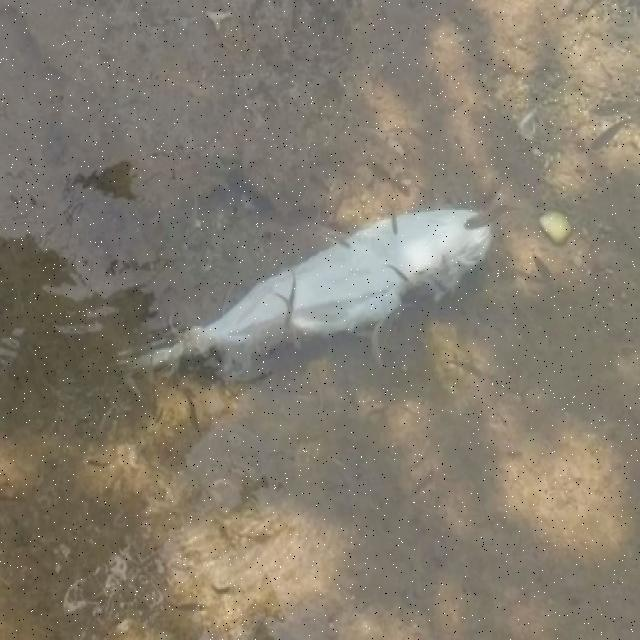Balik: (132, 208, 492, 372)
